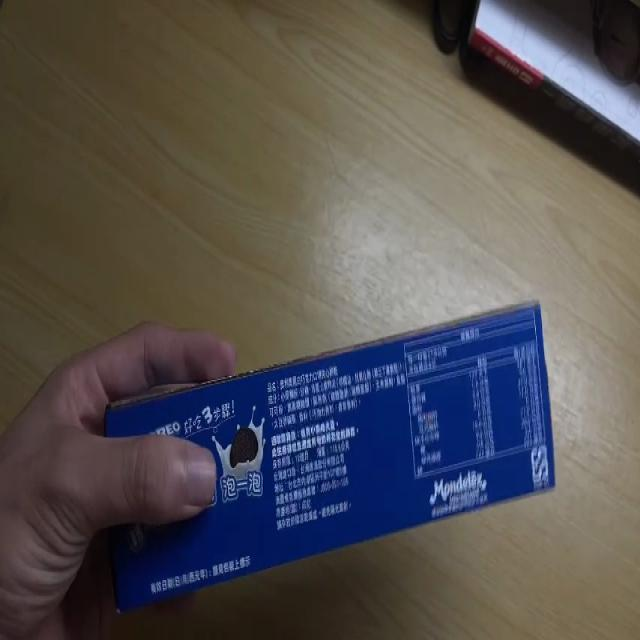Oreo: (103, 301, 558, 616)
